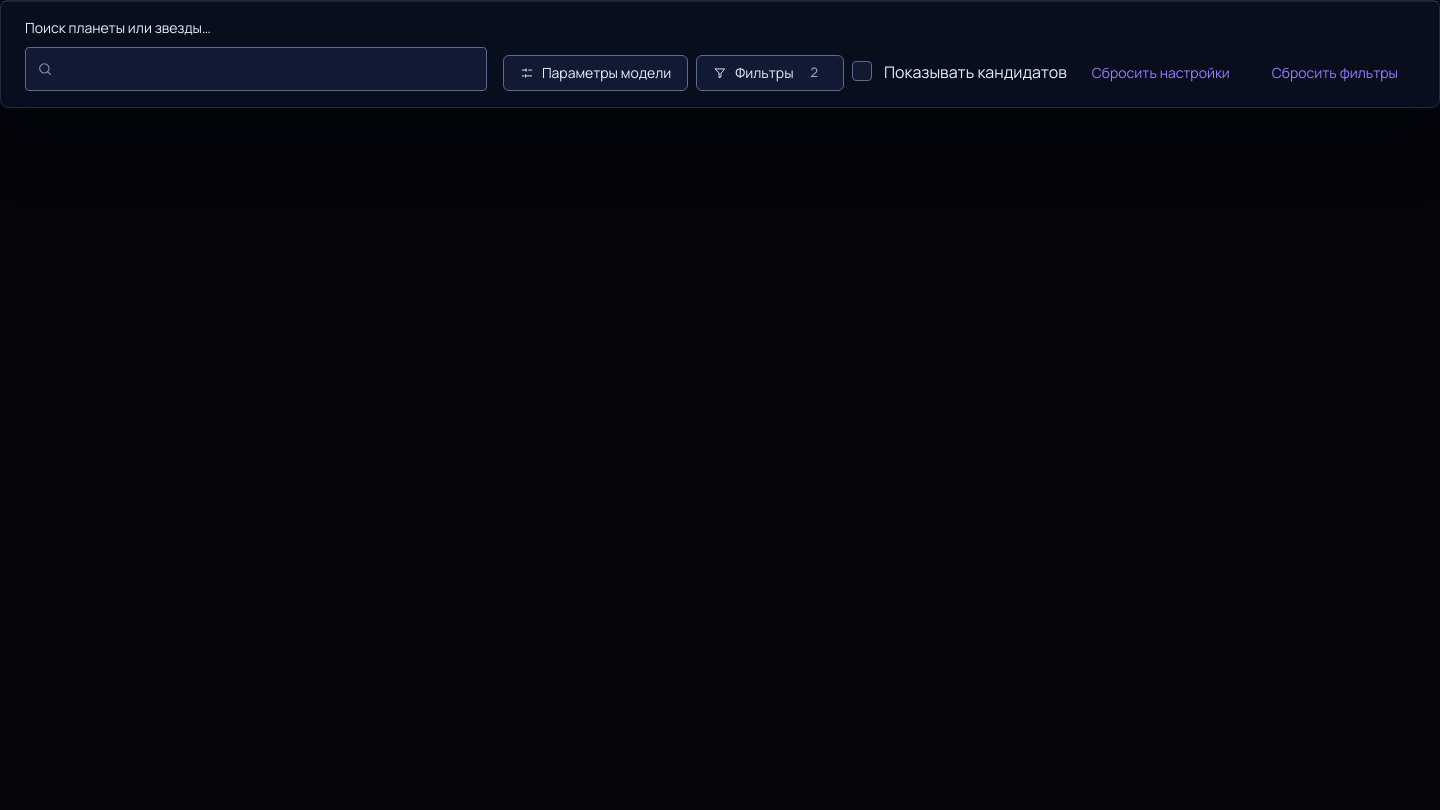
Scenario: пустое состояние › при counters.matching = 0 показывает сообщение и кнопку сброса
Later steps or results of the test are not shown.
Click the button "Фильтры 2" at (770, 73), box [696, 55, 844, 91]
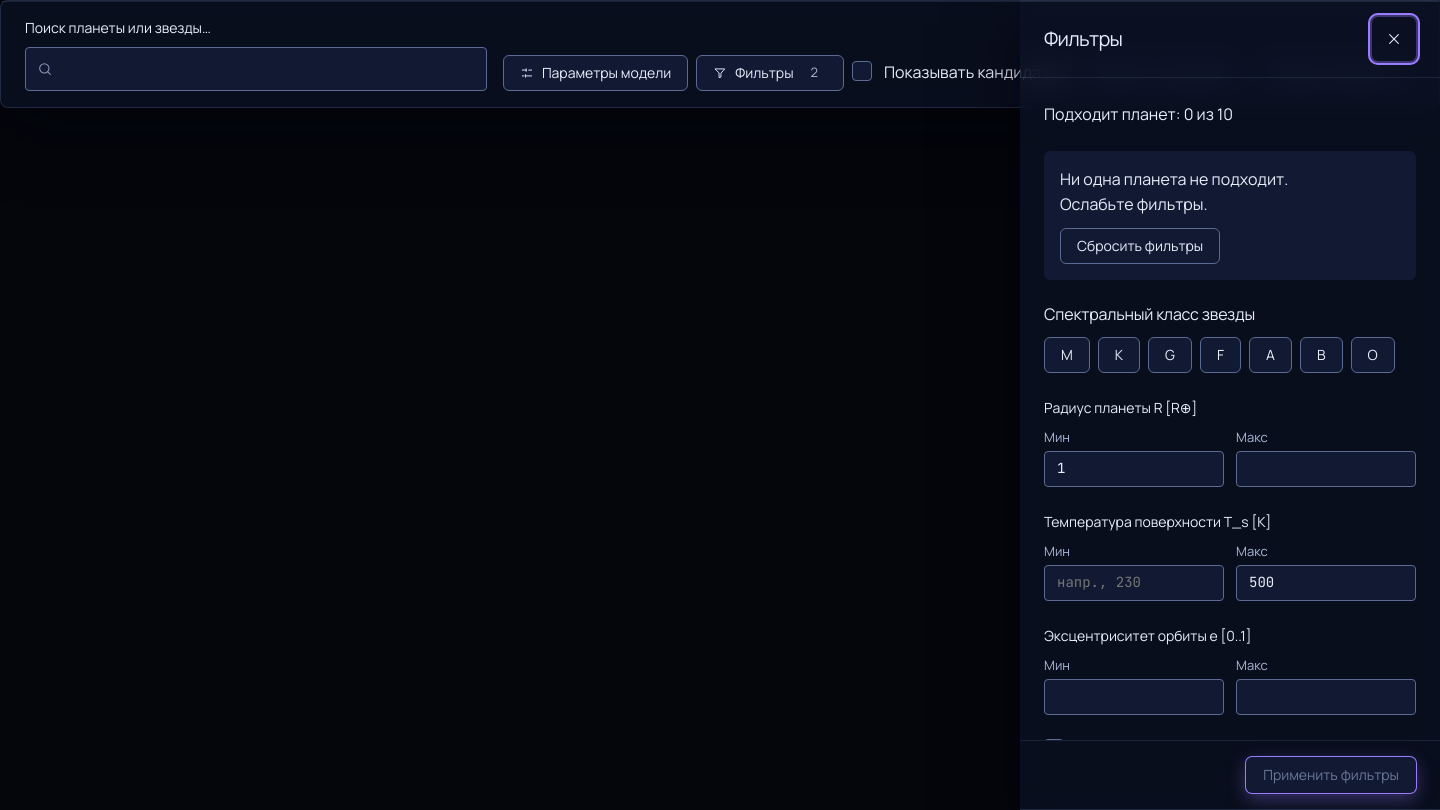
Now the text "Ни одна планета не подходит. Ослабьте фильтры." is shown, box [1060, 168, 1288, 215]
